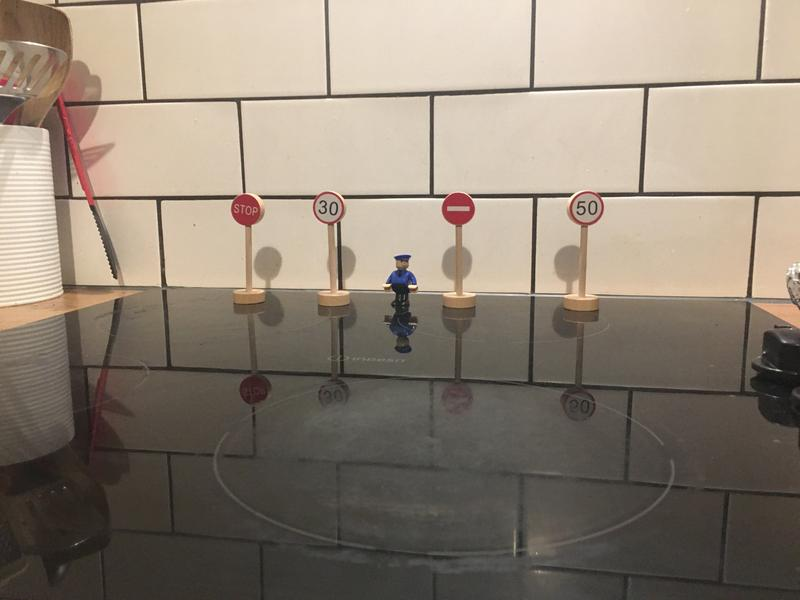Traffic_Sign_30: (314, 192, 344, 222)
Traffic_Sign_50: (570, 190, 604, 226)
Traffic_Sign_No_Entry: (443, 192, 474, 223)
Traffic_Sign_Stop: (230, 193, 262, 227)
person: (383, 255, 420, 313)
